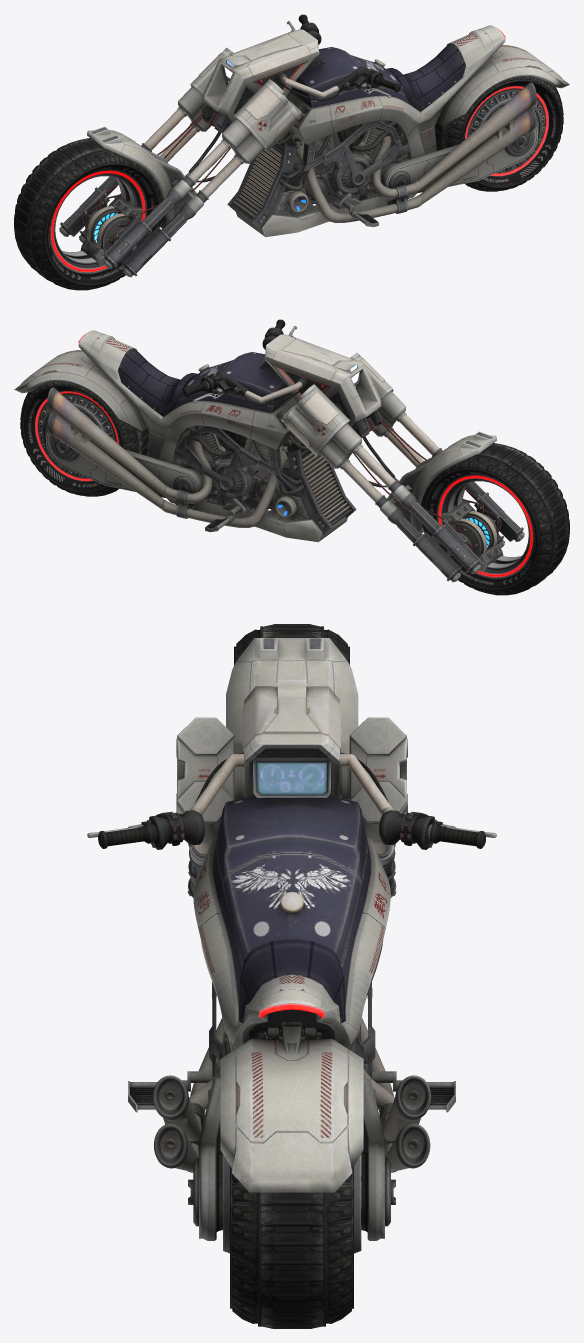
The model's file is SUP_moto_in_cyberpunk_style.glb.
3 views of the same model, one above another, from view 1: azimuth 30°, elevation 25°; view 2: azimuth 150°, elevation 25°; view 3: azimuth 270°, elevation 25° (orthographic). The views are drawn at different scales.
Visible parts, largest first — view 1: SUP_moto_in_cyberpunk_style; view 2: SUP_moto_in_cyberpunk_style; view 3: SUP_moto_in_cyberpunk_style.
Boxes of the visible parts, <box> form: SUP_moto_in_cyberpunk_style: <box>14,14,569,290</box>; SUP_moto_in_cyberpunk_style: <box>14,319,569,595</box>; SUP_moto_in_cyberpunk_style: <box>87,624,496,1328</box>.
Bounding box in the file's own units: 3.37 × 1.17 × 1.11.
6 materials, 6 textured.
